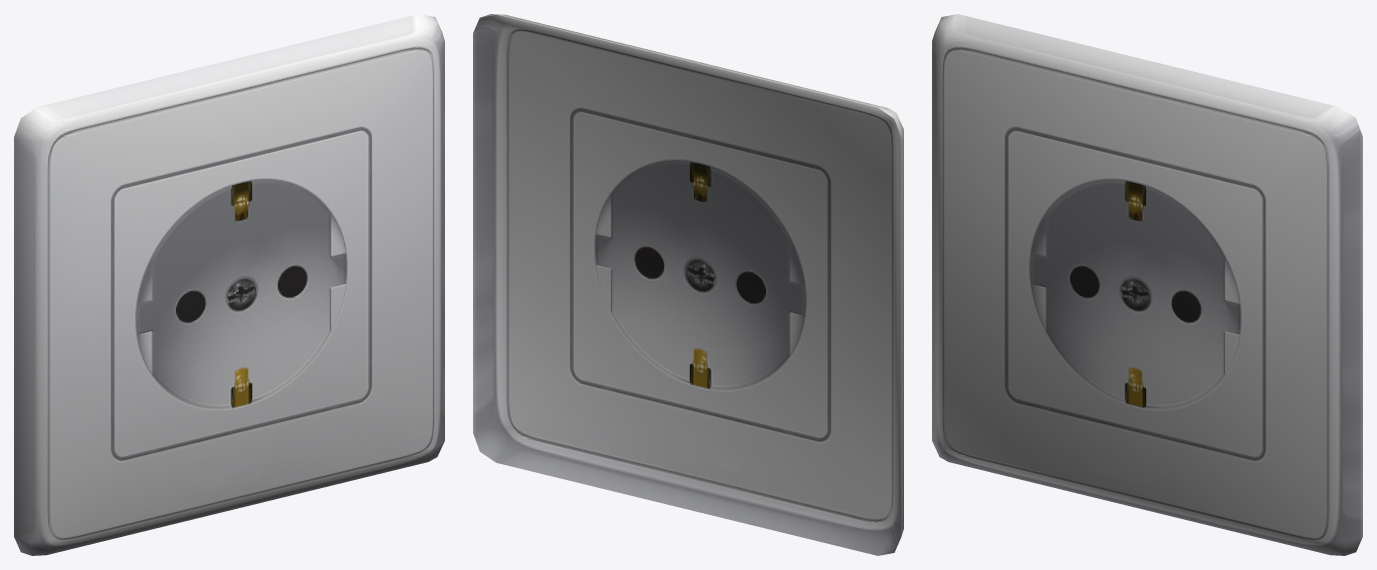
Rendered from PowerSocket02.FBX.
3 views of the same model, side by side, from view 1: azimuth 30°, elevation 25°; view 2: azimuth 150°, elevation 25°; view 3: azimuth 330°, elevation 25° (orthographic).
Visible parts, largest first — view 1: PowerSocket02; view 2: PowerSocket02; view 3: PowerSocket02.
Part boxes in pixels (x1=…): PowerSocket02: x1=14, y1=14, x2=444, y2=555; PowerSocket02: x1=473, y1=14, x2=903, y2=555; PowerSocket02: x1=932, y1=14, x2=1362, y2=555.
Size of the model in its own units: 4.43 by 4.43 by 0.2398.
